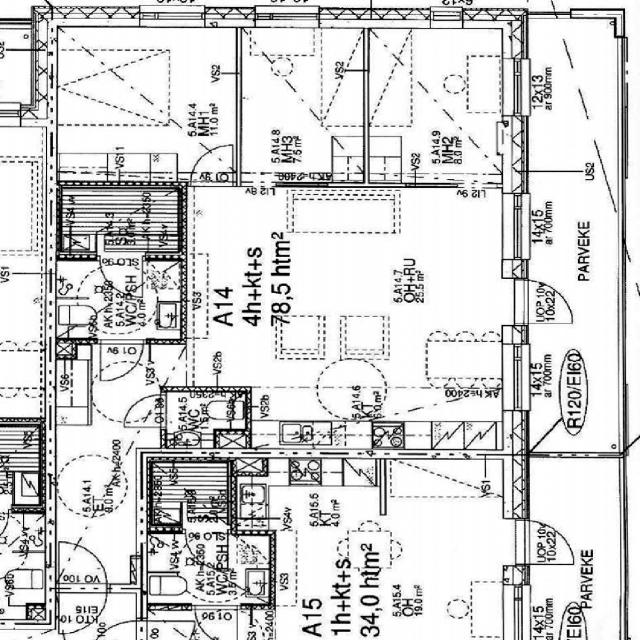door: (503, 280, 578, 322), (60, 542, 106, 593), (60, 584, 106, 634), (100, 252, 142, 296), (100, 338, 142, 380), (191, 144, 232, 187), (125, 394, 168, 427)
